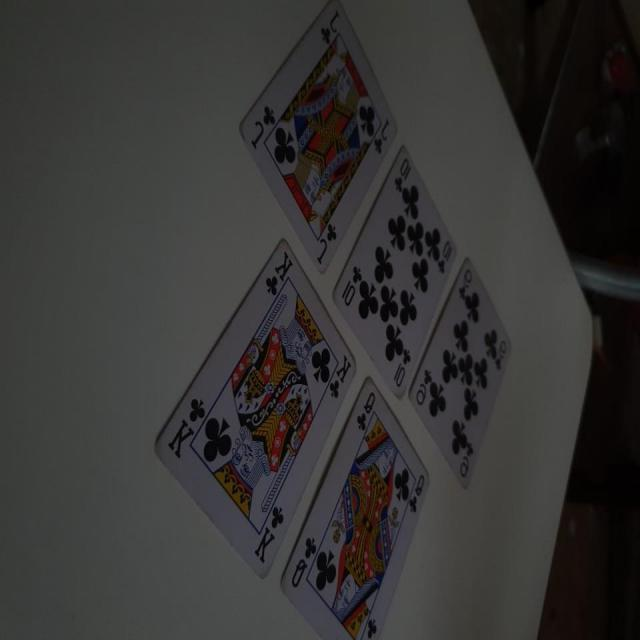10 of clubs: (332, 145, 459, 403)
9 of clubs: (410, 254, 510, 493)
jack of clubs: (240, 1, 400, 273)
king of clubs: (154, 239, 357, 582)
queen of clubs: (282, 375, 432, 640)
